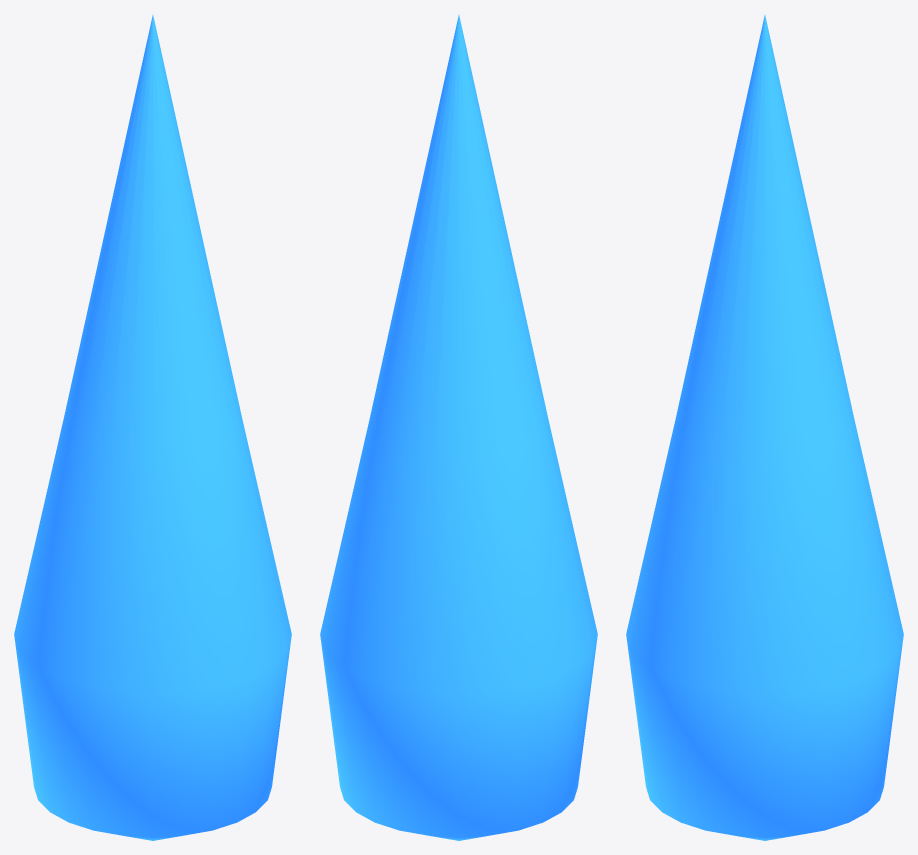
Rendered from burner-flame.glb.
The picture shows the model from 3 angles, left to right: view 1: azimuth 30°, elevation 25°; view 2: azimuth 150°, elevation 25°; view 3: azimuth 270°, elevation 25°; orthographic projection.
Parts seen in each view (by area): view 1: Blue flame outer cone.001; view 2: Blue flame outer cone.001; view 3: Blue flame outer cone.001.
Part boxes in pixels (left/top/right/bottom): Blue flame outer cone.001: left=14, top=15, right=291, bottom=840; Blue flame outer cone.001: left=320, top=15, right=597, bottom=840; Blue flame outer cone.001: left=626, top=15, right=903, bottom=840.
Bounding box in the file's own units: 0.028 × 0.092 × 0.028.
